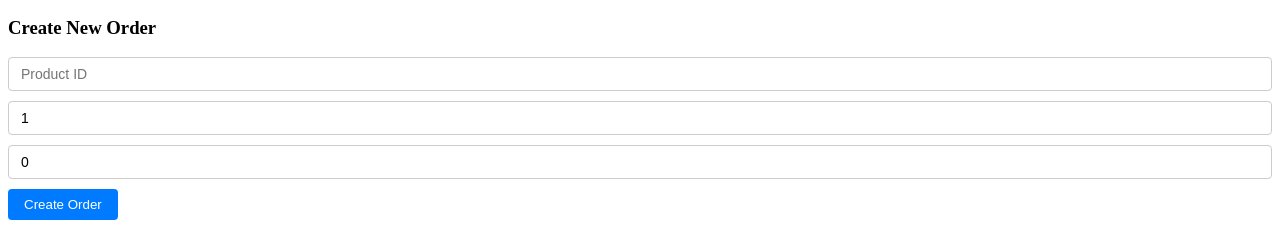
Scenario: OrderForm › resets form after submission
The image size is (1280, 237).
Type "PROD-123" into the field with placeholder "Product ID" at (640, 74), box [8, 57, 1272, 91]
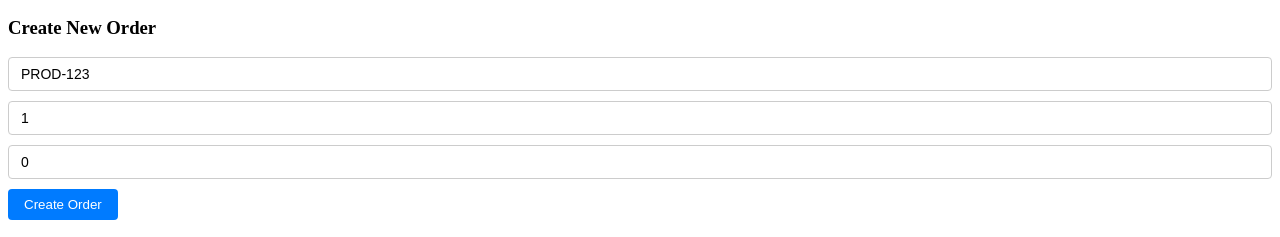
Replace the text in the 1st number field with placeholder "Quantity" with "5" at (640, 118), box [8, 101, 1272, 135]
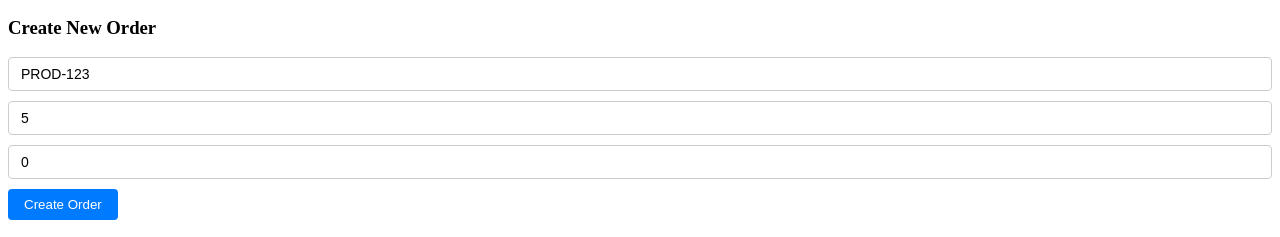
Replace the text in the 2nd number field with placeholder "Price" with "99.99" at (640, 162), box [8, 145, 1272, 179]
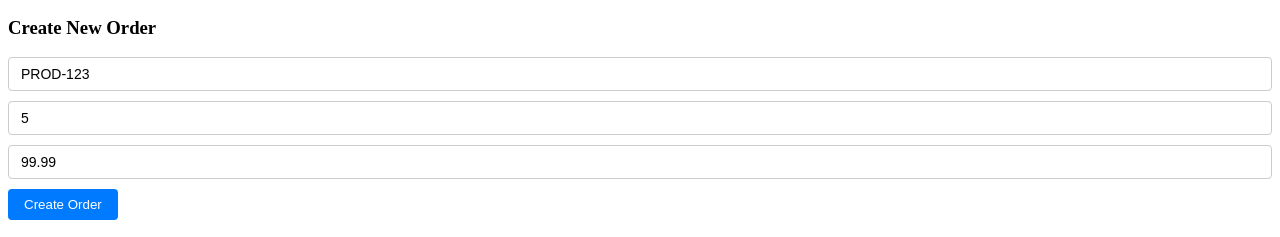
Submit the form
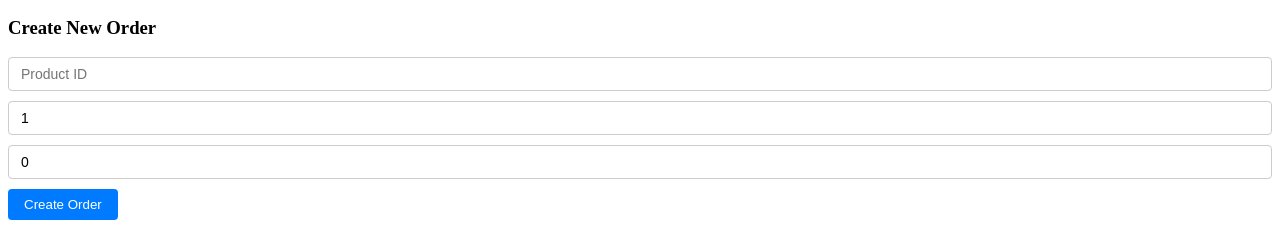
Now the field with placeholder "Product ID" is empty, box [8, 57, 1272, 91]
Now the 1st number field with placeholder "Quantity" holds "1", box [8, 101, 1272, 135]
Now the 2nd number field with placeholder "Price" holds "0", box [8, 145, 1272, 179]
